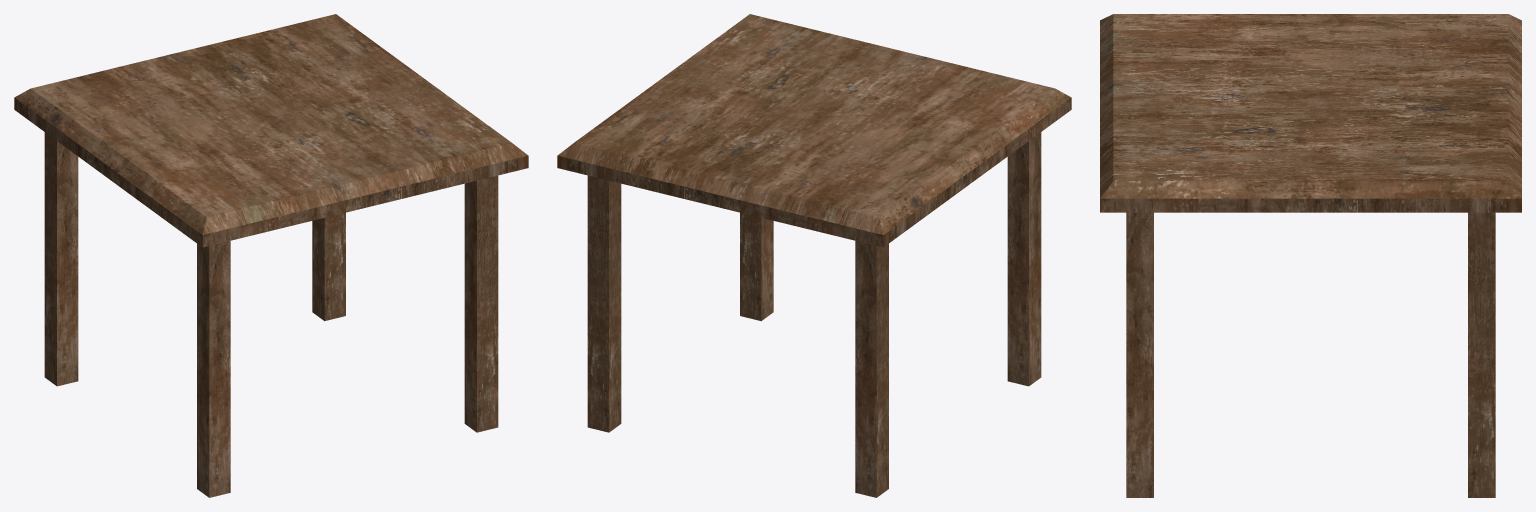
File: table.glb
3 views of the same model, side by side, from view 1: azimuth 30°, elevation 25°; view 2: azimuth 150°, elevation 25°; view 3: azimuth 270°, elevation 25° (orthographic). The views are drawn at different scales.
Visible parts, largest first — view 1: Table-col; view 2: Table-col; view 3: Table-col.
Part boxes in pixels (x1,y1,x2,y2): Table-col: (14,14,528,497); Table-col: (557,14,1071,497); Table-col: (1100,14,1521,497).
Bounding box in the file's own units: 1.22 × 1.03 × 1.22.
1 material, 1 textured.
